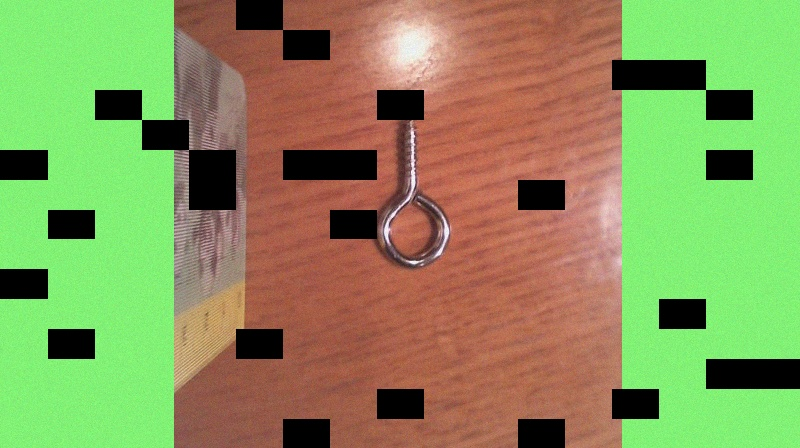O001: (367, 114, 453, 276)
